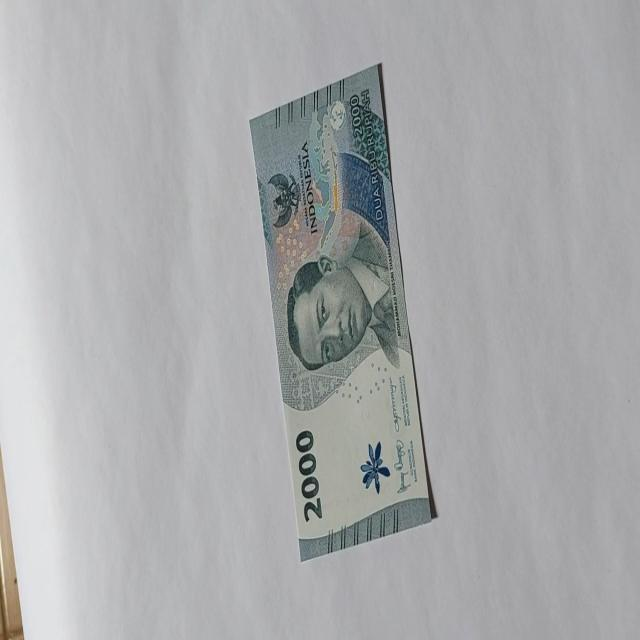dua ribu rupiah: (248, 63, 435, 560), (286, 218, 400, 374)
